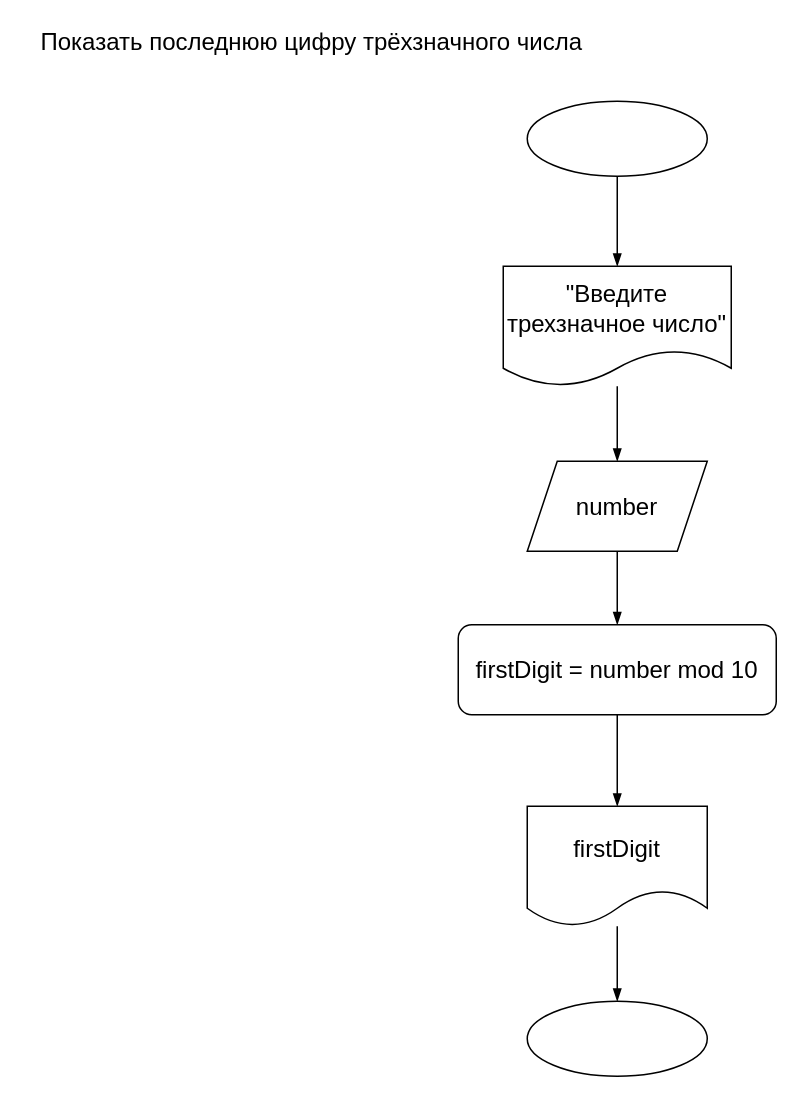
The diagram is 803 pixels wide and 1103 high, and some of its shapes have lost their labels. The centre of each missing label's shape, as x and y in pixels:
"end" belongs at point (616, 1038).
"start" belongs at point (616, 138).
